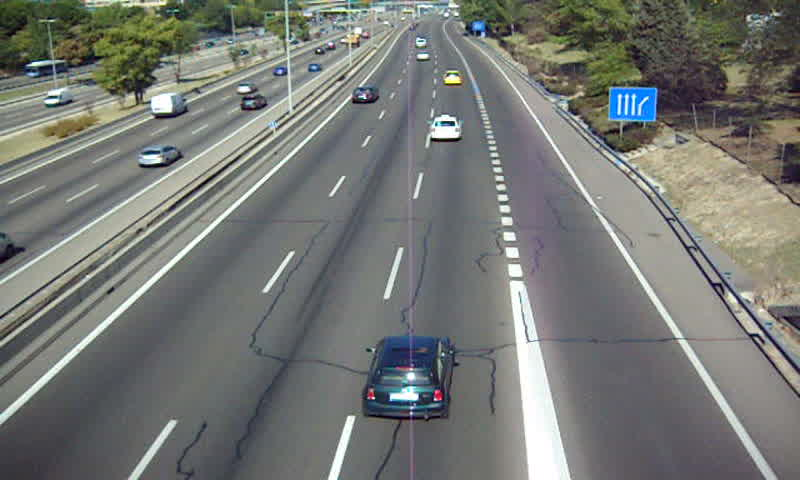car: (363, 336, 456, 418), (430, 115, 460, 141), (350, 86, 379, 104), (443, 69, 461, 85), (415, 50, 431, 63)
